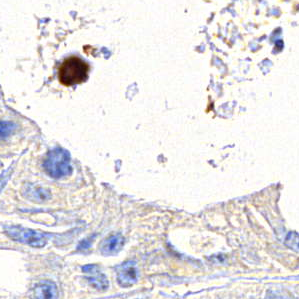Lymphocyte: (58, 56, 91, 87)
